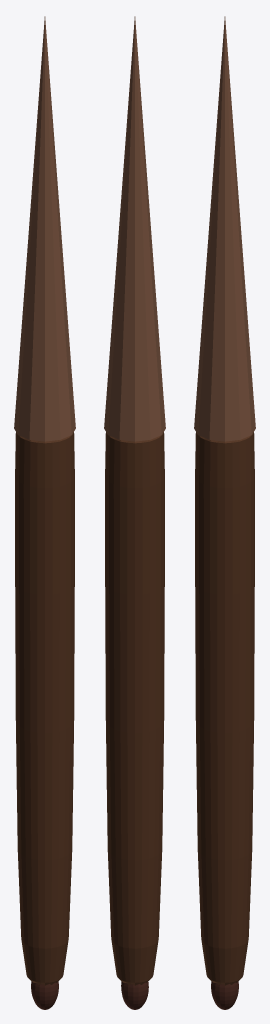
The model's file is Wand 26.glb.
3 views of the same model, side by side, from view 1: azimuth 90°, elevation 25°; view 2: azimuth 150°, elevation 25°; view 3: azimuth 270°, elevation 25° (orthographic).
Visible parts, largest first — view 1: GeneratedWand; view 2: GeneratedWand; view 3: GeneratedWand.
Boxes of the visible parts, x1,y1,x2,y2 form: GeneratedWand: (14, 16, 75, 1009); GeneratedWand: (104, 16, 165, 1009); GeneratedWand: (194, 16, 255, 1009).
Bounding box in the file's own units: 0.0282 × 0.5004 × 0.0282.
